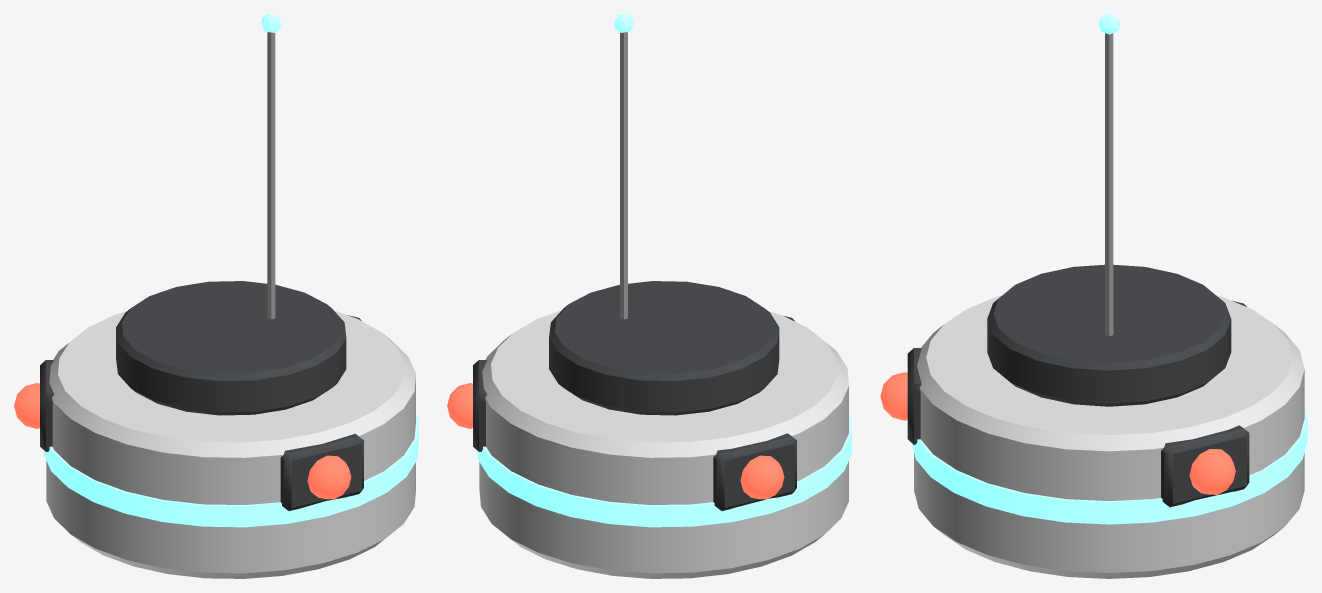
File: pylon_dish.glb
3 views of the same model, side by side, from view 1: azimuth 30°, elevation 25°; view 2: azimuth 150°, elevation 25°; view 3: azimuth 270°, elevation 25° (orthographic). The views are drawn at different scales.
Visible parts, largest first — view 1: pylon_dish; view 2: pylon_dish; view 3: pylon_dish.
Boxes of the visible parts, left/top/right/bottom form: pylon_dish: left=14, top=14, right=418, bottom=578; pylon_dish: left=447, top=14, right=851, bottom=578; pylon_dish: left=880, top=14, right=1307, bottom=578.
Size of the model in its own units: 0.6602 by 0.918 by 0.7.
